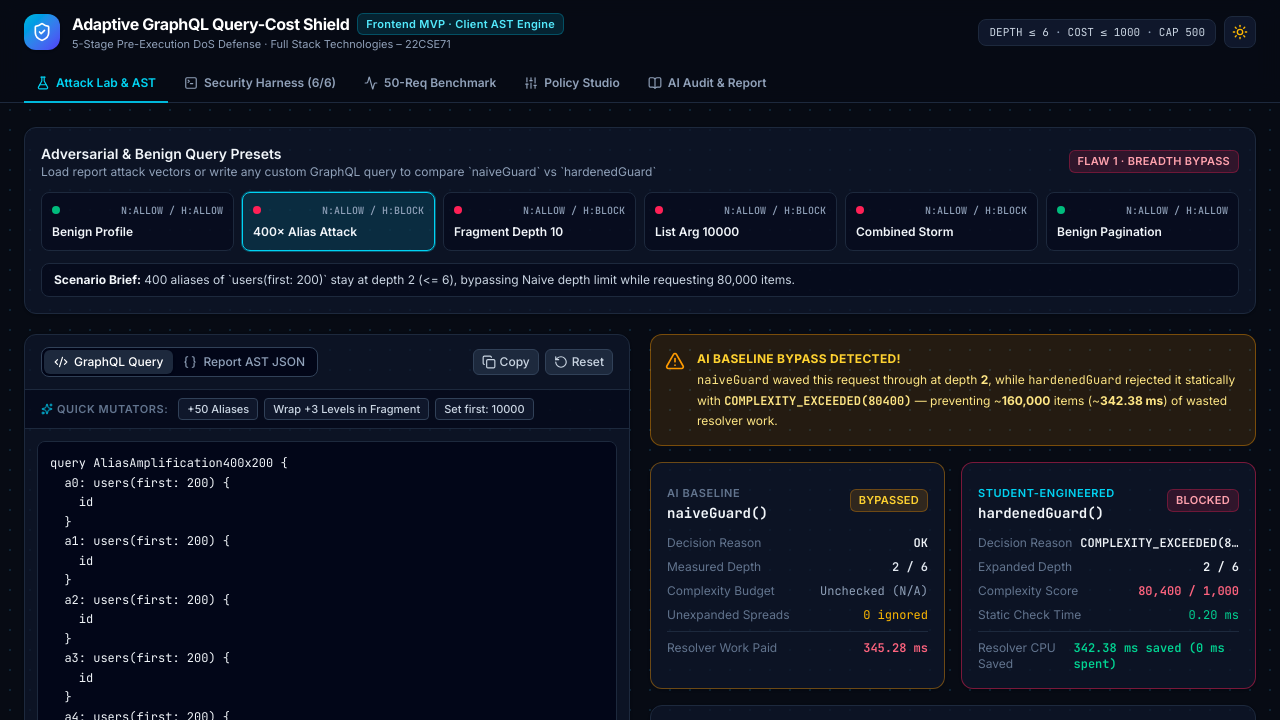
it: Adaptive GraphQL Query-Cost Shield UI › switches presets and GraphQL/JSON AST editor modes in Attack Lab
Click the button "N:ALLOW / H:BLOCK Fragment Depth 10" at [540, 221], box [443,192,636,250]
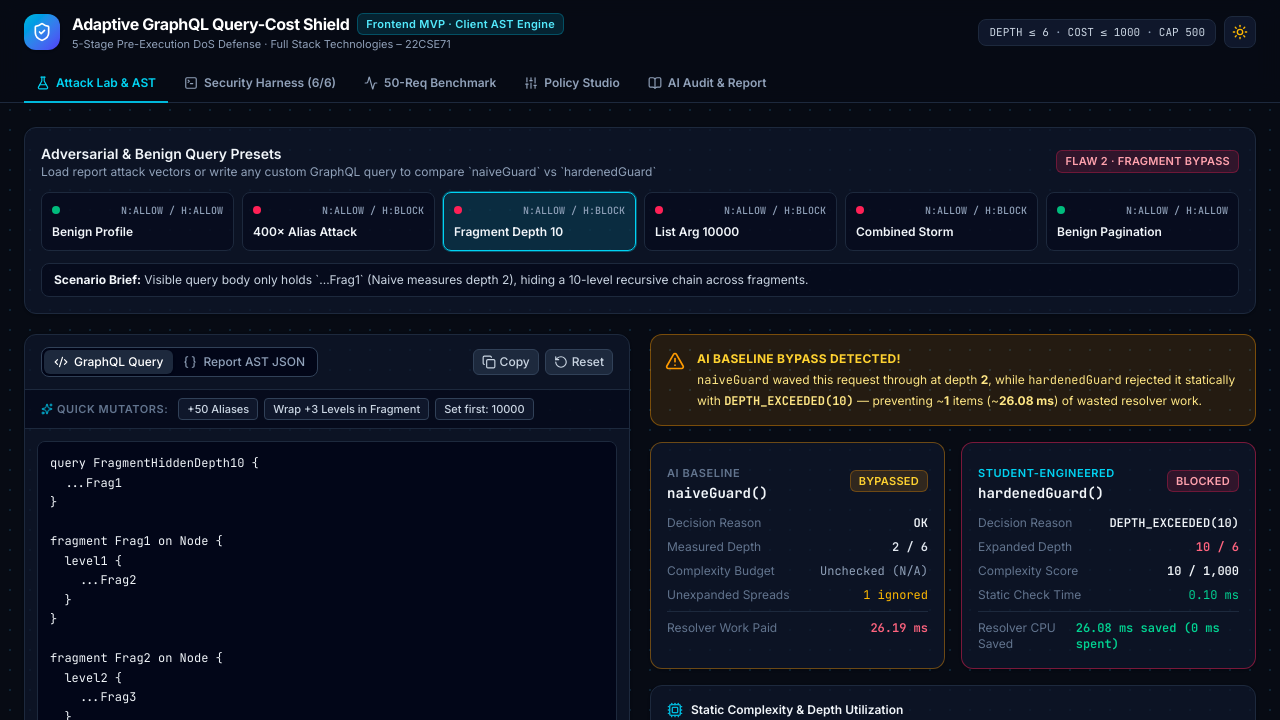
Click the button "Report AST JSON" at [244, 362], box [173,350,315,374]
(page scrolled)
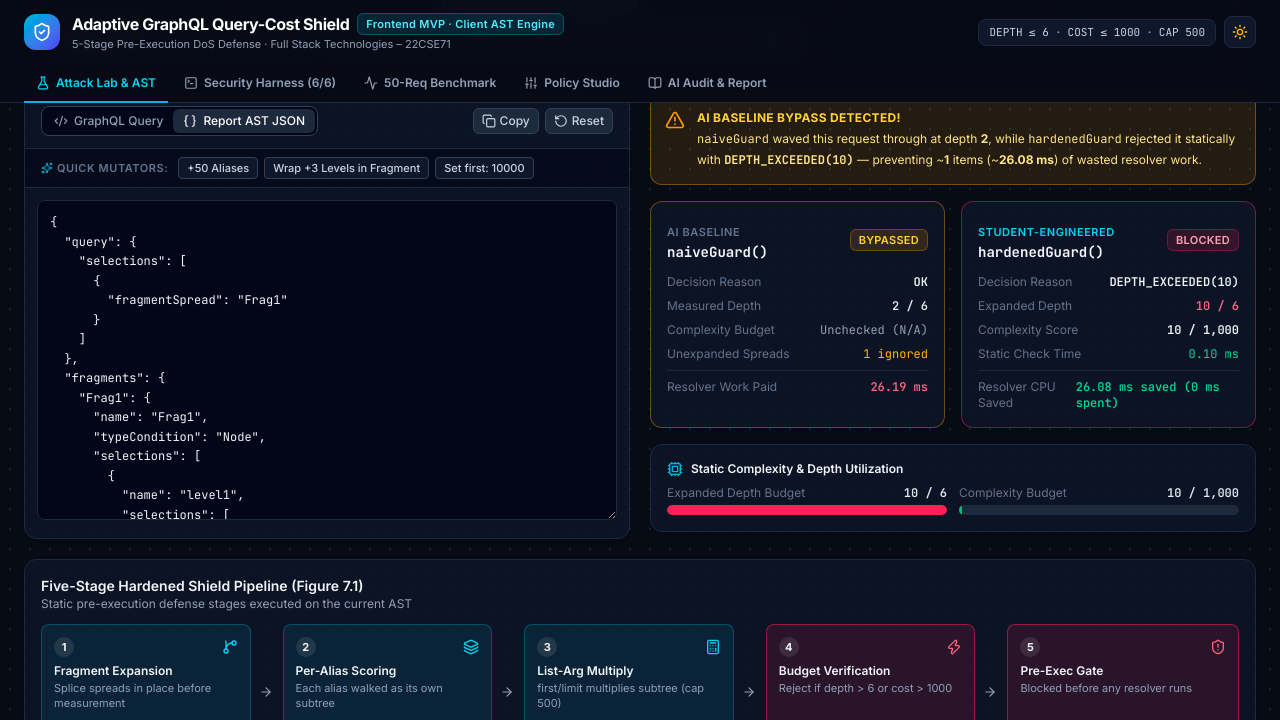
Check: the text box named "Report AST JSON Editor" is shown, box [37,200,617,520]
